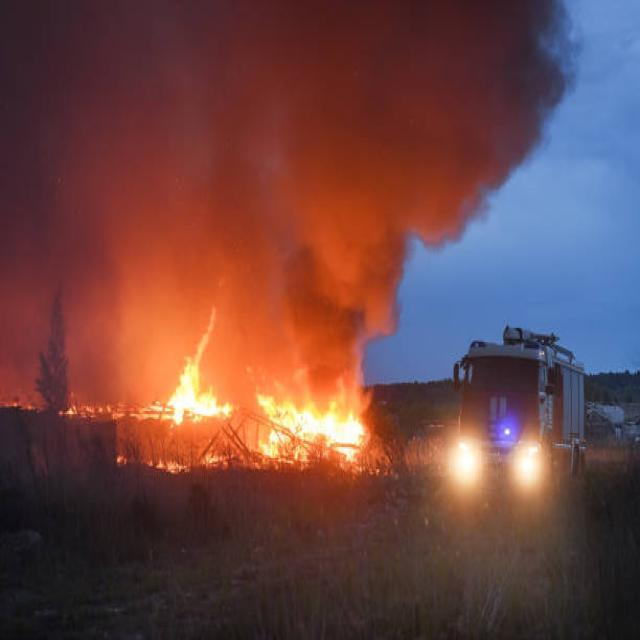Fire: (160, 334, 386, 476)
Smoke: (2, 0, 570, 231), (0, 211, 393, 392)
